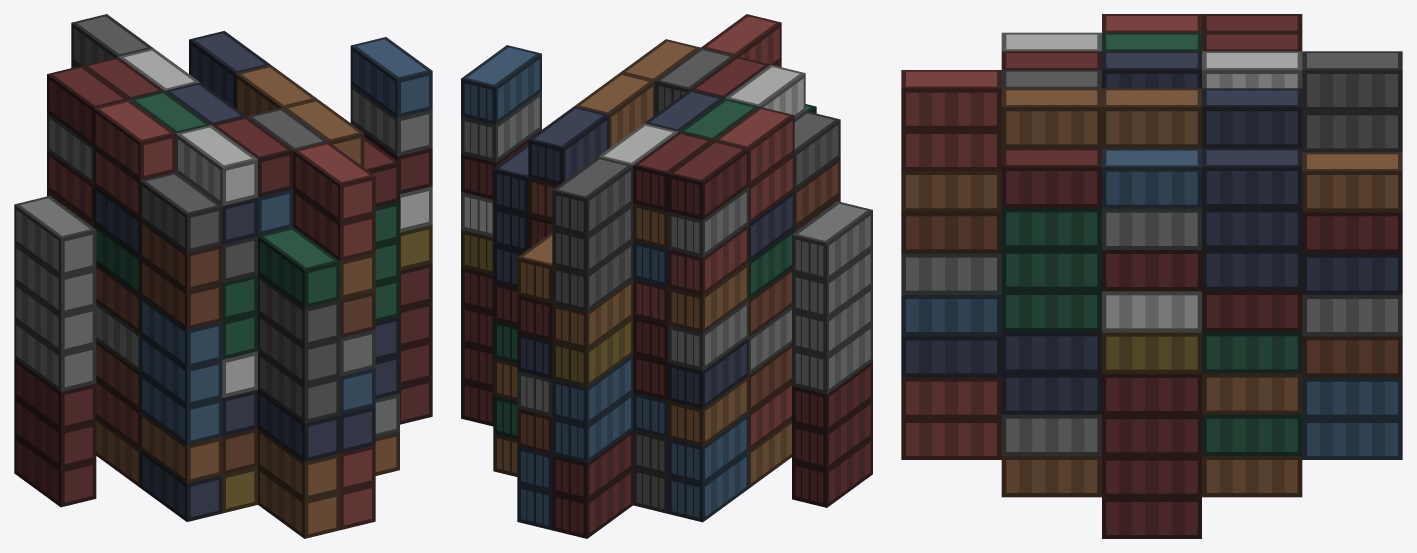
File: ultra-yard-gantry.glb
3 renders of one model, left to right at view 1: azimuth 30°, elevation 25°; view 2: azimuth 150°, elevation 25°; view 3: azimuth 270°, elevation 25°, orthographic. The views are drawn at different scales.
Parts seen in each view (by area): view 1: ultra-yard-gantry; view 2: ultra-yard-gantry; view 3: ultra-yard-gantry.
Part boxes in pixels (box(x1,y1,x2,y2)): ultra-yard-gantry: box(14, 14, 432, 538); ultra-yard-gantry: box(461, 14, 872, 538); ultra-yard-gantry: box(901, 14, 1402, 538).
Size of the model in its own units: 60.8 by 54 by 66.
